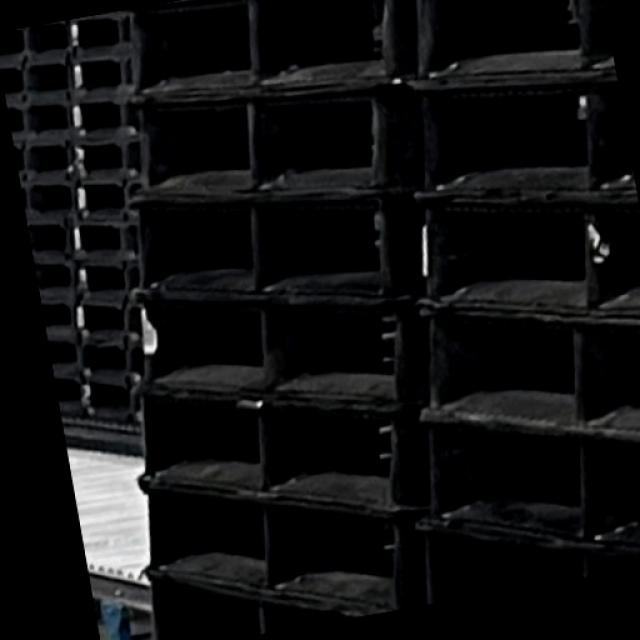igps: (128, 479, 429, 613), (123, 395, 427, 513), (117, 85, 404, 197), (123, 294, 414, 403), (119, 202, 407, 308), (413, 413, 640, 544), (397, 79, 640, 199), (410, 307, 640, 433), (406, 195, 640, 318), (123, 0, 404, 96), (400, 0, 640, 84), (133, 568, 405, 640), (0, 58, 71, 104), (72, 179, 144, 222), (72, 257, 142, 301), (71, 136, 142, 178), (4, 139, 70, 183), (70, 219, 141, 259), (80, 336, 146, 379), (0, 99, 70, 139), (80, 372, 146, 414), (0, 21, 69, 61), (75, 299, 144, 339), (70, 54, 134, 96), (70, 100, 140, 138), (67, 15, 133, 54), (20, 178, 74, 220), (29, 257, 73, 300), (29, 220, 70, 262), (44, 333, 80, 375), (51, 372, 85, 412), (41, 296, 74, 336)
